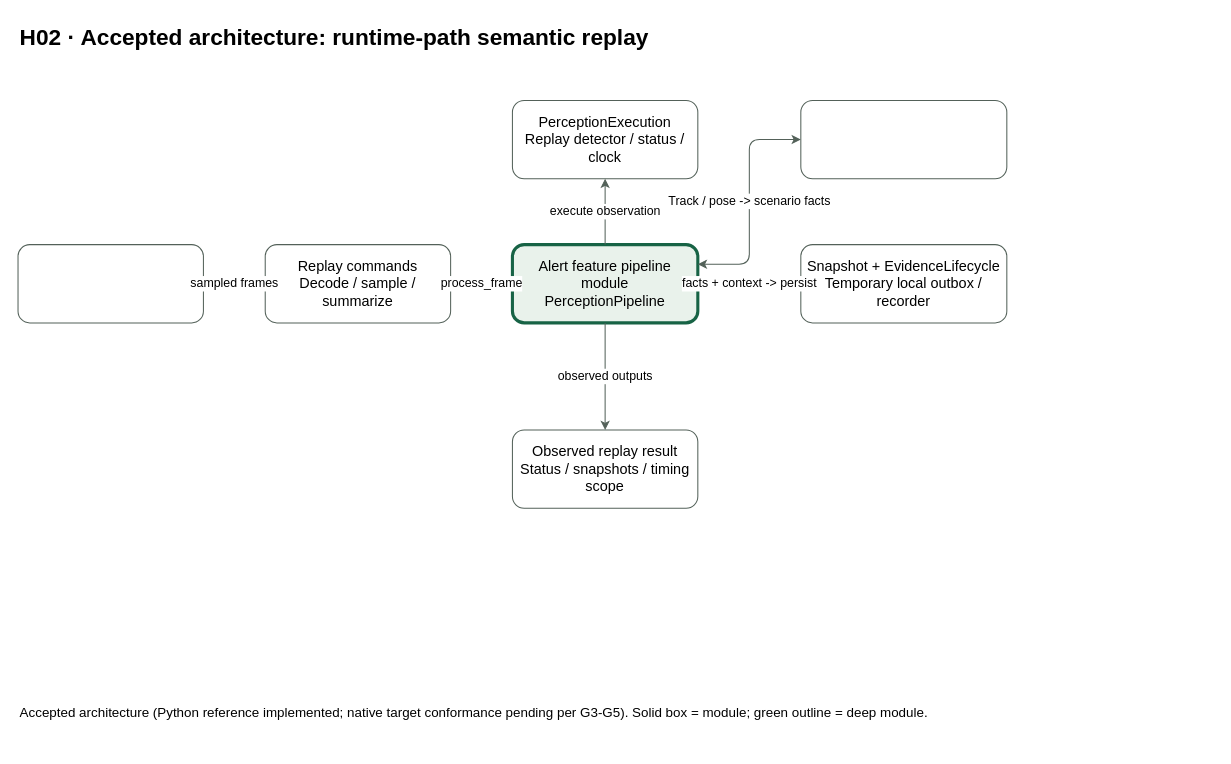
Image size: 1231x764. Some labels were removed from this diagram. The centre of each missing label's shape, as x and y in pixels:
Independent feature modules Rules / temporal state: point (903, 139)
Local cleared video Explicit sampling / configuration: point (110, 283)
